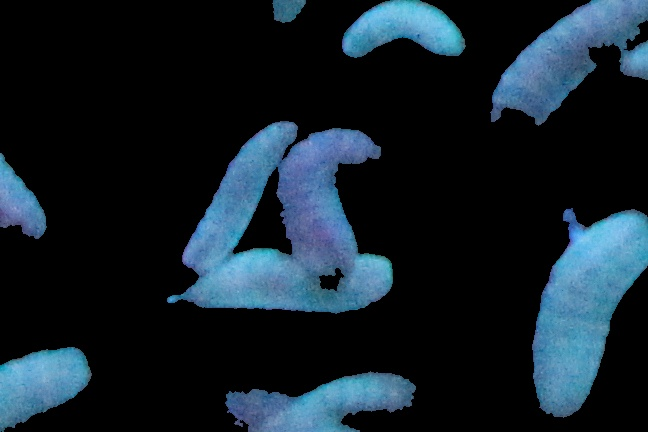larvae: (532, 203, 648, 420), (486, 1, 648, 121), (174, 121, 300, 272), (169, 254, 408, 318), (281, 131, 378, 267), (339, 1, 470, 67), (1, 345, 92, 426), (291, 375, 421, 419)
